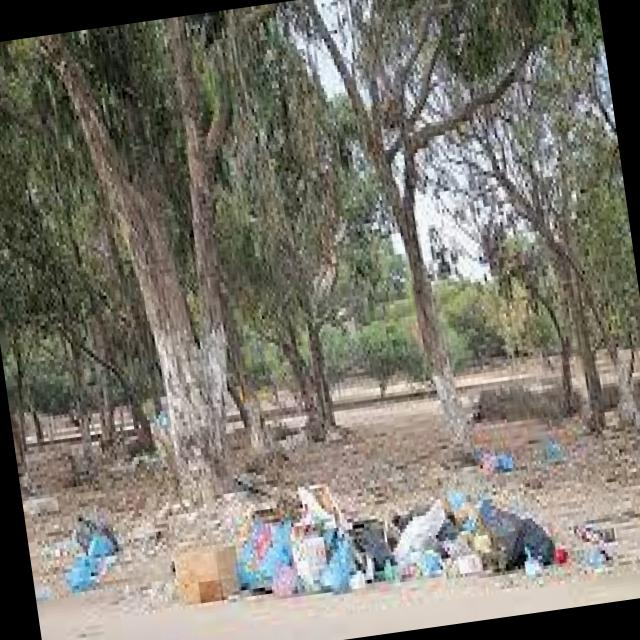garbage: (217, 438, 559, 626)
